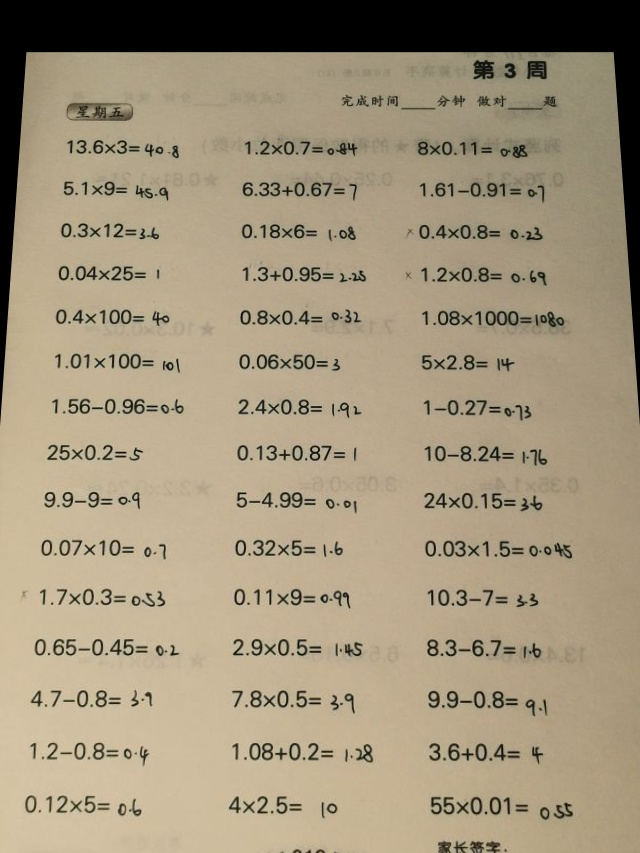equation: (423, 790, 576, 823), (227, 737, 376, 765), (29, 633, 183, 660), (422, 684, 551, 715), (18, 583, 168, 609), (419, 535, 574, 560), (227, 684, 358, 713), (26, 736, 151, 766), (229, 633, 367, 660), (400, 262, 550, 286), (18, 790, 145, 818), (228, 583, 354, 611), (27, 685, 157, 712), (423, 738, 547, 766), (418, 306, 568, 329), (420, 440, 550, 466), (35, 535, 170, 560), (48, 394, 188, 418), (232, 487, 359, 513), (415, 177, 547, 202), (420, 487, 545, 513), (224, 790, 340, 818), (421, 635, 544, 661), (50, 349, 183, 373), (403, 220, 545, 242), (422, 584, 542, 610), (234, 395, 364, 419), (238, 176, 360, 201), (419, 394, 536, 420), (237, 262, 368, 285), (60, 135, 184, 159), (231, 535, 347, 560), (236, 306, 365, 328), (233, 442, 361, 464), (412, 136, 530, 159), (51, 305, 173, 327), (237, 220, 359, 242), (240, 135, 361, 157), (59, 177, 174, 200), (234, 349, 343, 373), (38, 487, 143, 511), (44, 440, 148, 464), (54, 262, 163, 284), (56, 219, 163, 241), (416, 350, 518, 373)
